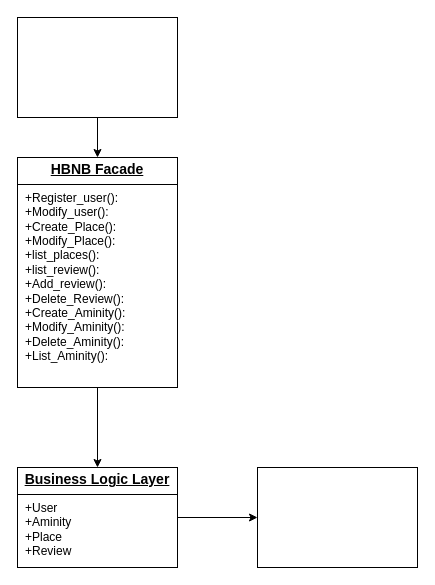
Image size: 435x585. Some labels were removed from this diagram. Here are the shapes that lost their labels. From the top down, the centre of each, then its label:
(x=97, y=67): Presentation Layer +UserAPI +AminityAPI +PlaceAPI +ReviewAPI
(x=337, y=517): PersistenceLayer +UserRepo +Aminity Repo +Place Repo +Review Repo
